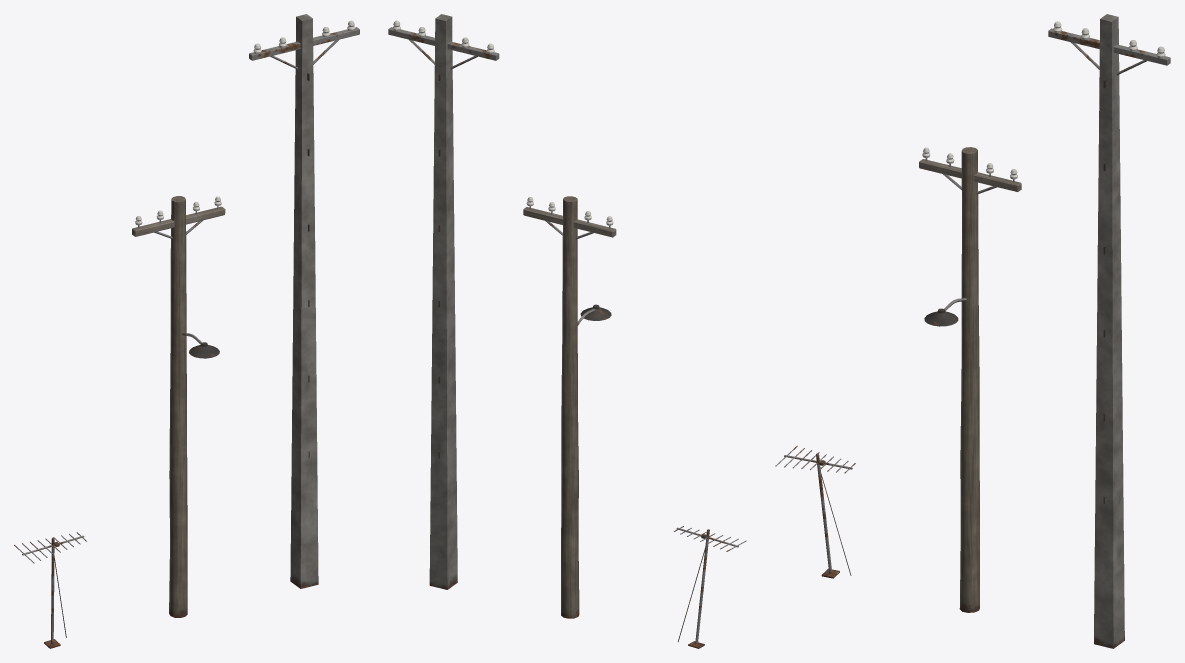
File: TvAntennaAndPoles.fbx
The picture shows the model from 3 angles, left to right: view 1: azimuth 30°, elevation 25°; view 2: azimuth 150°, elevation 25°; view 3: azimuth 330°, elevation 25°; orthographic projection. The views are drawn at different scales.
Visible parts, largest first — view 1: ConcretePole, WoodenPole, TvAntenna; view 2: ConcretePole, WoodenPole, TvAntenna; view 3: ConcretePole, WoodenPole, TvAntenna.
Boxes of the visible parts, left/top/right/bottom form: ConcretePole: left=249, top=14, right=359, bottom=588; WoodenPole: left=132, top=196, right=225, bottom=617; TvAntenna: left=14, top=532, right=87, bottom=648; ConcretePole: left=388, top=14, right=499, bottom=589; WoodenPole: left=523, top=196, right=616, bottom=618; TvAntenna: left=673, top=526, right=746, bottom=648; ConcretePole: left=1048, top=14, right=1170, bottom=648; WoodenPole: left=919, top=147, right=1021, bottom=612; TvAntenna: left=775, top=445, right=855, bottom=578.
Bounding box in the file's own units: 532 × 841 × 105.
1 material, 1 textured.
